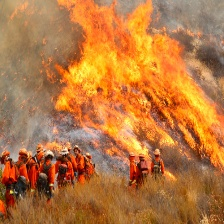fire: (58, 1, 224, 170)
smoke: (3, 1, 62, 154), (177, 1, 223, 91)
